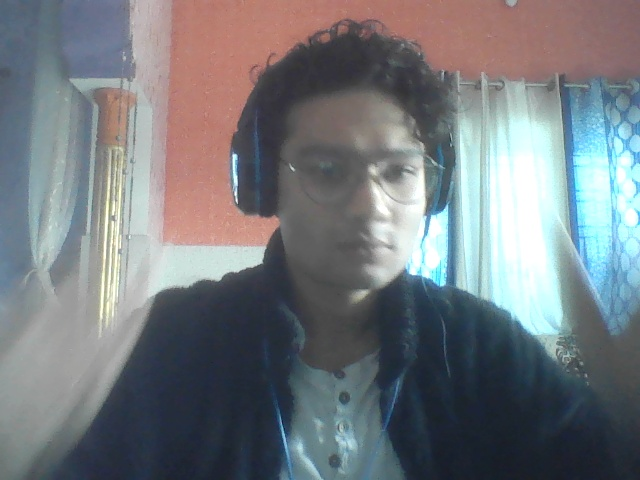real: (250, 31, 450, 314)
